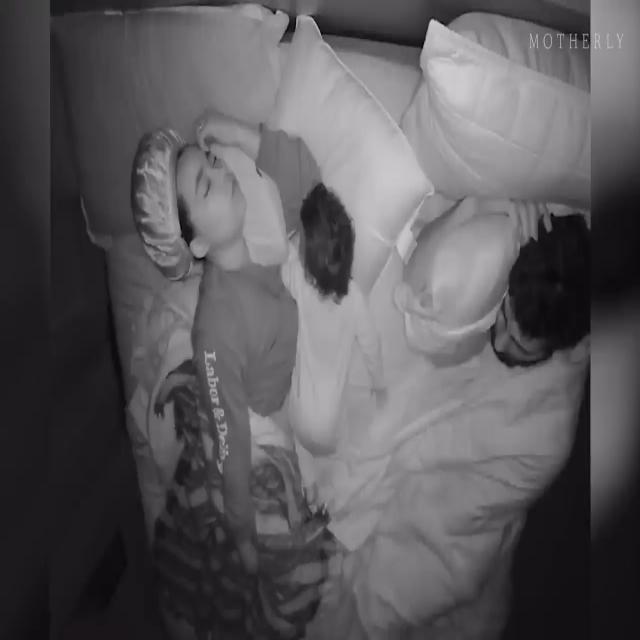baby: (279, 178, 388, 515)
